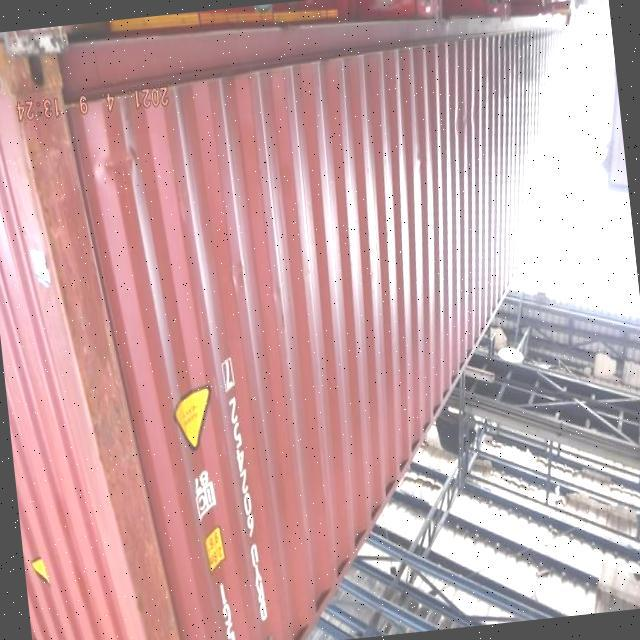Minor-Dent: (81, 132, 163, 197)
